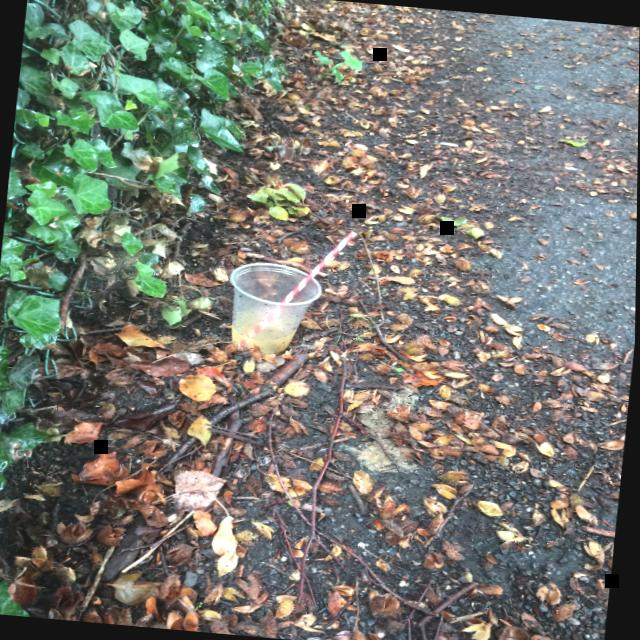Disposable plastic cup: (230, 263, 322, 355)
Paper straw: (280, 230, 357, 302)
